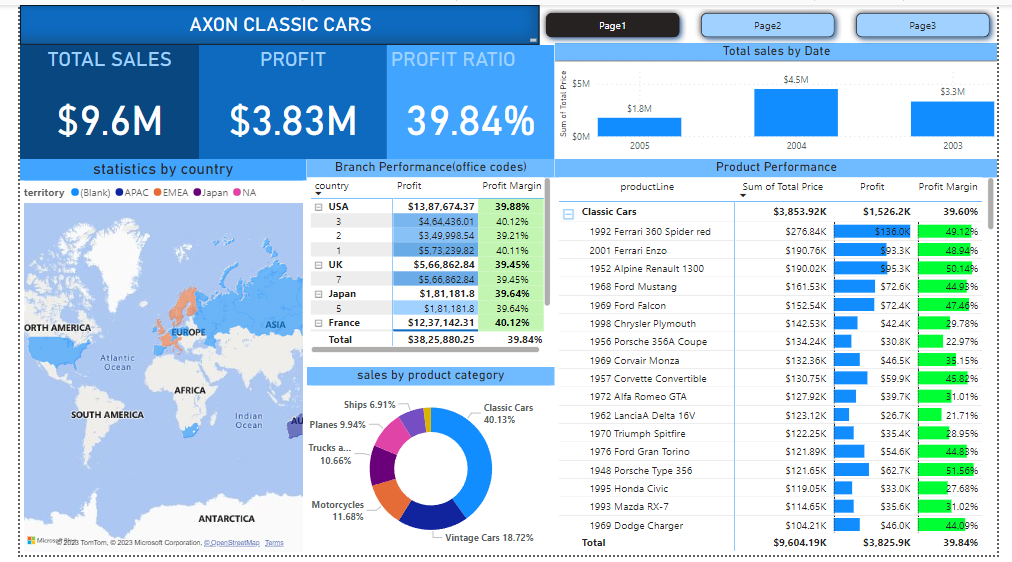

The page's visual inventory and layout, read from the dashboard file:
{"tool":"powerbi","page":{"name":"Page1","canvas":[1280,720],"ordinal":0},"visuals":[{"type":"card","title":"TOTAL SALES","fields":{"Values":["Sum(orderdetails.totalQxpe)"]},"box":[0,51.8,234.7,149.8],"z":0},{"type":"card","title":"PROFIT","fields":{"Values":["orderdetails.Profit"]},"box":[234.7,51.8,246.2,149.8],"z":1000},{"type":"card","title":"PROFIT RATIO","fields":{"Values":["orderdetails.profit ratio"]},"box":[481,51.8,218.9,149.8],"z":2000},{"type":"pivotTable","title":"Product Performance","fields":{"Rows":["products.productLine","products.productName"],"Values":["Sum(orderdetails.total sales)","orderdetails.Profit","orderdetails.Profit Margin"]},"box":[699.8,201.6,580.3,518.4],"z":3000},{"type":"donutChart","title":"sales by product category","fields":{"Category":["products.productLine"],"Y":["Sum(orderdetails.total sales)"]},"box":[375.2,473.4,324.4,247.2],"z":4000},{"type":"pivotTable","title":"Branch Performance(office codes)","fields":{"Rows":["offices.country","offices.officeCode"],"Values":["orderdetails.Profit","orderdetails.Profit Margin"]},"box":[375.8,201.6,324,259.2],"z":5000},{"type":"clusteredColumnChart","title":" Total sales by Date","fields":{"Category":["orderes.orderDate Hierarchy.orderDate","orderes.orderDate Hierarchy.orderdate year","orderes.orderDate Hierarchy.order date Quarter","orderes.orderDate Hierarchy.orderdate Month"],"Y":["Sum(orderdetails.total sales)"]},"box":[699.8,50.4,580.3,151.2],"z":6000},{"type":"textbox","title":"AXON CLASSIC CARS","box":[0,0,679.7,51.8],"z":7000},{"type":"pageNavigator","box":[679.7,1.4,600.5,50.4],"z":8000},{"type":"filledMap","title":"statistics by country","fields":{"Category":["customers.country"],"Series":["offices.territory"]},"box":[0,201.6,375.2,519],"z":9000}]}

Visuals, with their boxes in screenshot pixels (x1, y1, x2, y2), scaled from the page's 1280x720 canvas onto the 1012x562 screenshot:
"TOTAL SALES" card: box(0, 40, 186, 157)
"PROFIT" card: box(186, 40, 380, 157)
"PROFIT RATIO" card: box(380, 40, 553, 157)
"Product Performance" pivotTable: box(553, 157, 1011, 561)
"sales by product category" donutChart: box(297, 370, 553, 561)
"Branch Performance(office codes)" pivotTable: box(297, 157, 553, 360)
" Total sales by Date" clusteredColumnChart: box(553, 39, 1011, 157)
"AXON CLASSIC CARS" textbox: box(0, 0, 537, 40)
pageNavigator: box(537, 1, 1011, 40)
"statistics by country" filledMap: box(0, 157, 297, 561)
